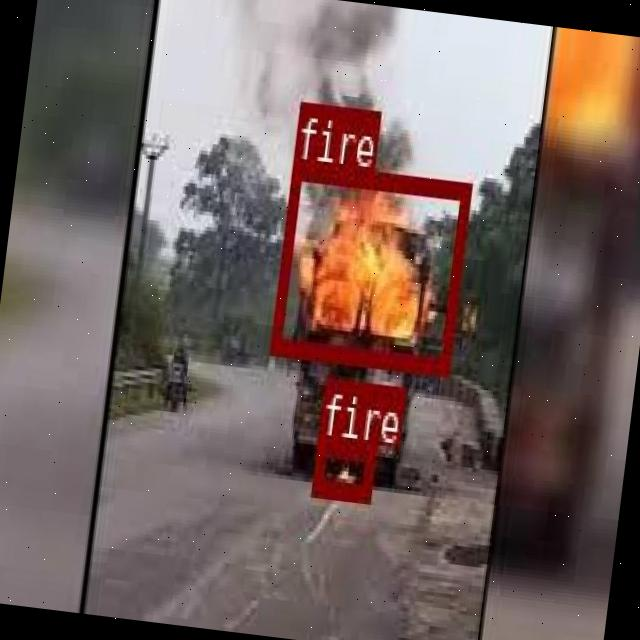fire: (269, 162, 470, 372), (312, 435, 374, 497)
